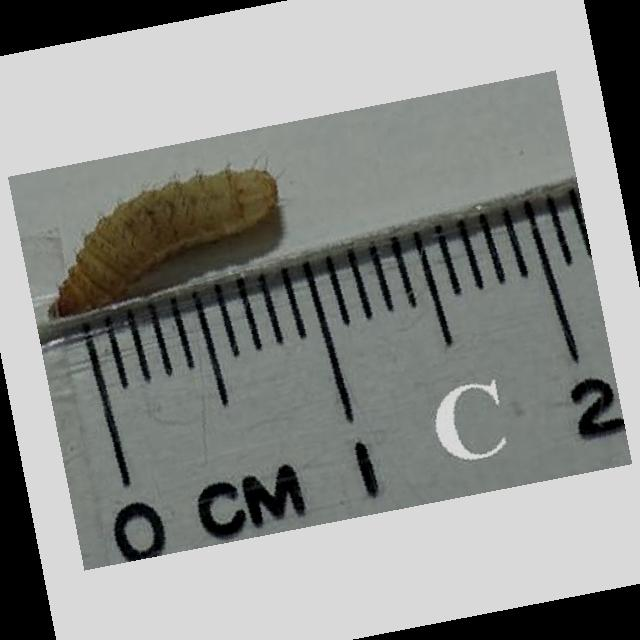Maggot: (50, 165, 283, 323)
